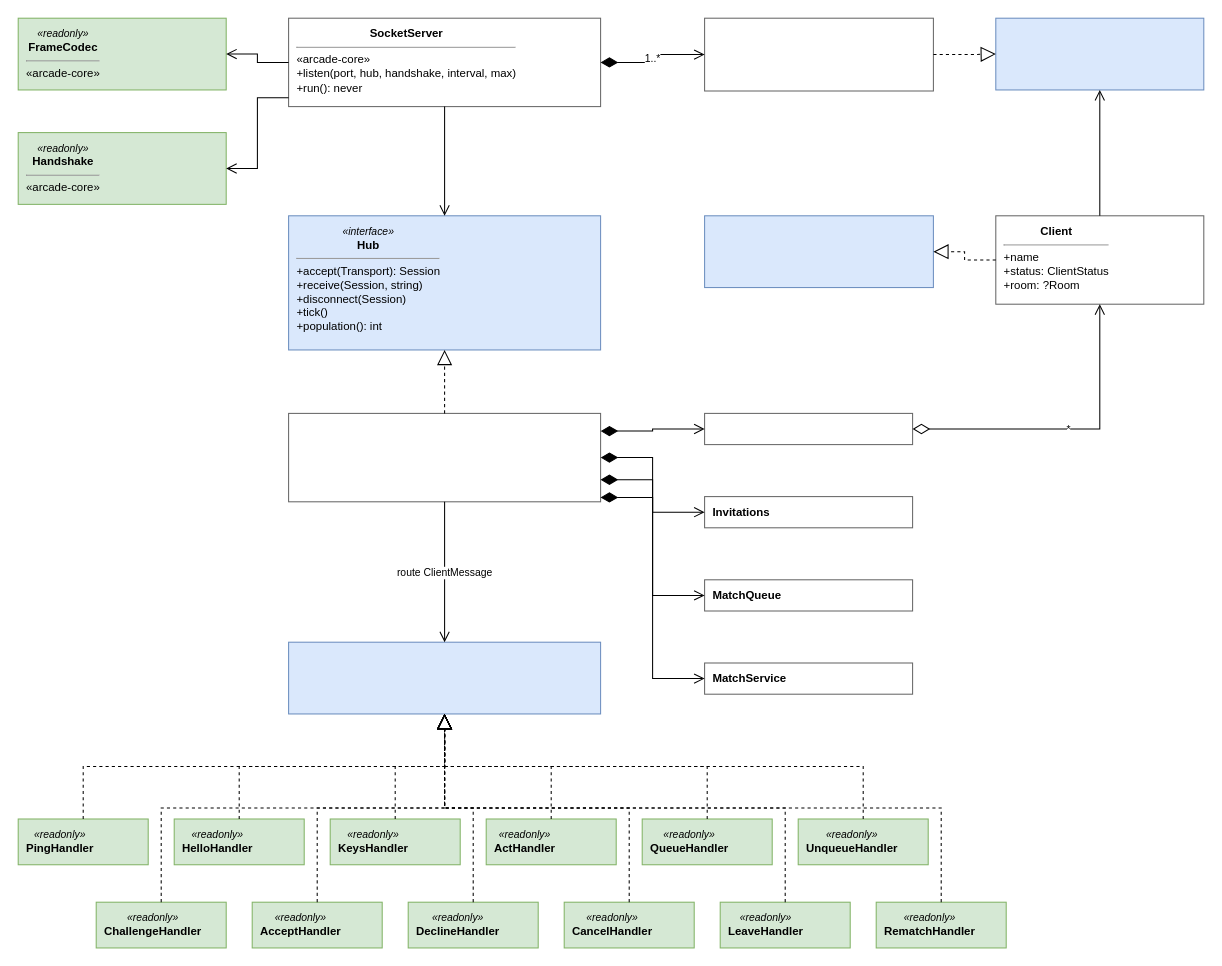
Image size: 1222x966. Some labels were removed from this diagram. The box of each missing label's shape, as (x1, y1, x2, y2) in pixels:
Connection «arcade-core» +send(json): void: (704, 17, 933, 91)
GameHub +create(): GameHub +accept / receive / disconnect +tick() : 60 Hz: (288, 412, 601, 502)
Lobby: (704, 412, 913, 445)
«interface» MessageHandler +handle(Client, msg): void: (288, 641, 601, 714)
«interface» Session +idleFor(now): int: (704, 215, 933, 288)
«interface» Transport +send(json): void: (995, 17, 1204, 90)
